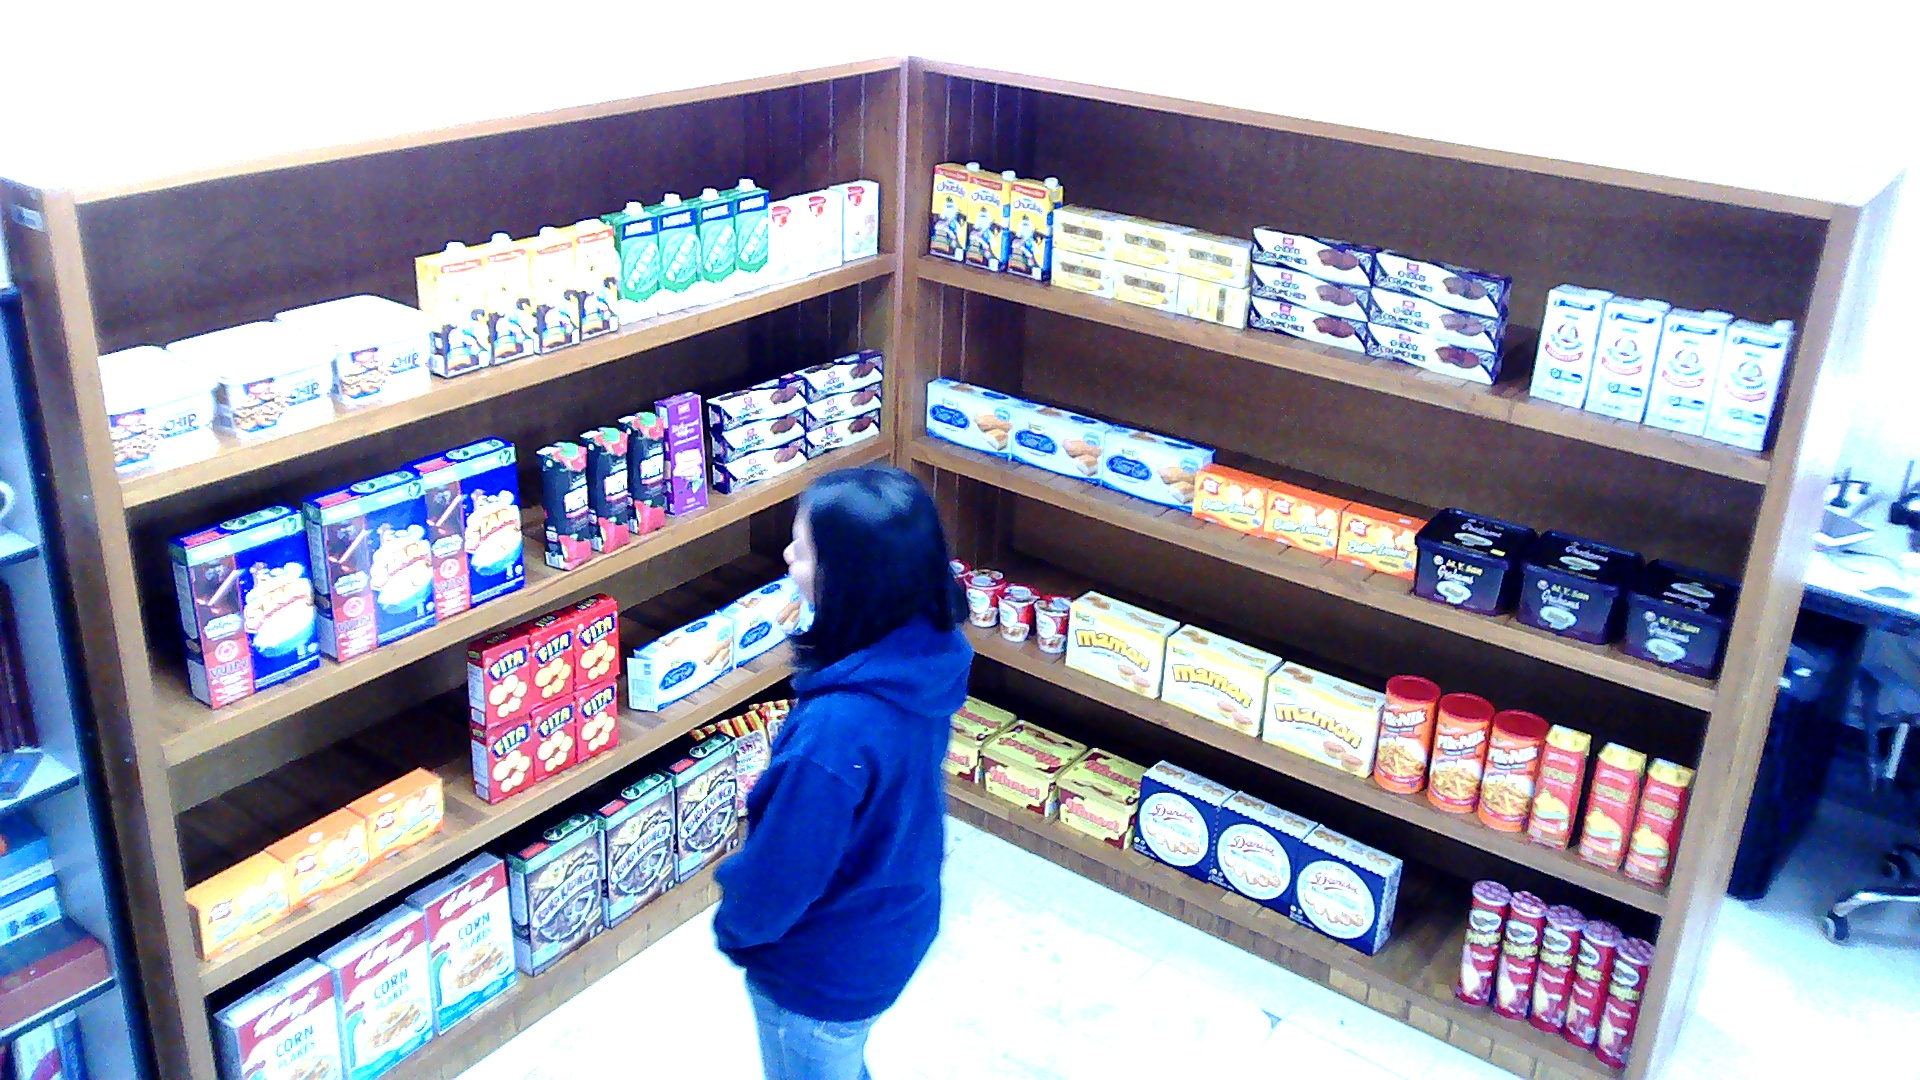Bear brand: (1700, 317, 1793, 450), (1644, 306, 1734, 436), (1583, 295, 1670, 423), (1527, 281, 1614, 407)
Buttercake: (624, 612, 732, 711), (1101, 425, 1215, 513), (1010, 400, 1115, 486), (713, 574, 800, 666), (927, 375, 1023, 458)
Butterlicious: (186, 851, 288, 961), (264, 808, 369, 914), (345, 767, 441, 866), (1334, 501, 1427, 580), (1263, 482, 1350, 558), (1194, 464, 1275, 538)
Camomille: (1113, 216, 1191, 272), (1178, 227, 1247, 288), (1053, 205, 1128, 259), (1176, 277, 1248, 329), (1113, 261, 1176, 310), (1050, 247, 1110, 296)
Choco Crunchies: (1370, 247, 1511, 315), (1368, 287, 1509, 350), (1365, 323, 1503, 384), (1250, 222, 1379, 285), (1250, 262, 1367, 321), (1248, 297, 1365, 351), (705, 370, 804, 429), (710, 436, 803, 495), (708, 407, 804, 463), (792, 347, 882, 403), (803, 380, 878, 432), (807, 407, 879, 459)
Chocolate Chips: (165, 321, 339, 438), (273, 292, 435, 405), (95, 344, 218, 470)
Chuckie: (413, 242, 488, 377), (468, 231, 534, 364), (513, 225, 579, 353), (558, 216, 618, 340), (1004, 175, 1061, 278), (926, 161, 983, 260), (963, 171, 1017, 272)
Danisa: (1289, 823, 1400, 956), (1209, 790, 1317, 918), (1130, 758, 1235, 882)
Fita: (465, 627, 531, 726), (513, 607, 573, 708), (468, 713, 534, 805), (560, 591, 617, 688), (530, 693, 575, 781), (573, 677, 615, 763)
Fresh Milk: (600, 200, 657, 324), (642, 191, 696, 313), (683, 186, 734, 303), (717, 177, 768, 292)
Grahams: (1617, 558, 1740, 680), (1518, 528, 1644, 645), (1413, 506, 1536, 614)
Hansel: (980, 719, 1085, 816), (1056, 747, 1146, 848), (939, 695, 1017, 783)
Head: (776, 454, 953, 650)
Honey Stars: (164, 501, 317, 706), (299, 466, 434, 664), (401, 434, 524, 621)
Kellogg Corn Flakes: (314, 900, 431, 1078), (405, 851, 516, 1035), (213, 956, 339, 1078)
Kimchi Noodles: (996, 580, 1041, 641), (963, 569, 1005, 628), (1032, 593, 1068, 652)
Koko Krunch: (503, 809, 602, 976), (588, 767, 672, 929), (660, 729, 738, 884)
Locally Mango: (1623, 756, 1695, 886), (1578, 743, 1647, 871), (1527, 722, 1590, 850)
Mamon: (1259, 661, 1382, 776), (1161, 623, 1284, 736), (1065, 590, 1179, 700)
Oishi Prawn: (690, 706, 771, 819)
Pik-nik: (1476, 709, 1548, 831), (1424, 693, 1493, 815), (1370, 675, 1439, 792)
Pringles: (1559, 918, 1622, 1048), (1593, 935, 1653, 1068), (1526, 902, 1583, 1032), (1491, 891, 1545, 1019), (1455, 880, 1509, 1006)
Super Fruits: (537, 441, 591, 569), (579, 425, 627, 553), (618, 411, 663, 533)
Wafer: (654, 391, 708, 515)
iHop: (827, 180, 878, 261), (794, 189, 839, 272), (767, 196, 806, 284)
